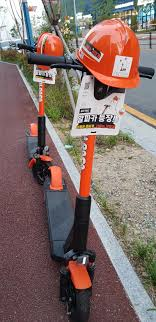kick_body: (45, 189, 74, 251), (27, 137, 44, 159)
kick_handler: (27, 54, 155, 81)
kick_neck: (70, 89, 96, 250), (37, 69, 48, 150)
kick_wheel: (60, 263, 90, 320)
